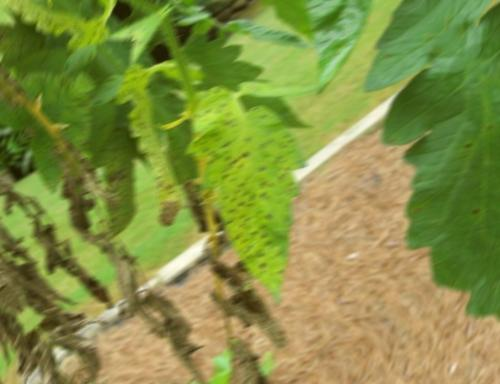Tomato Septoria leaf spot: (125, 53, 372, 308)
